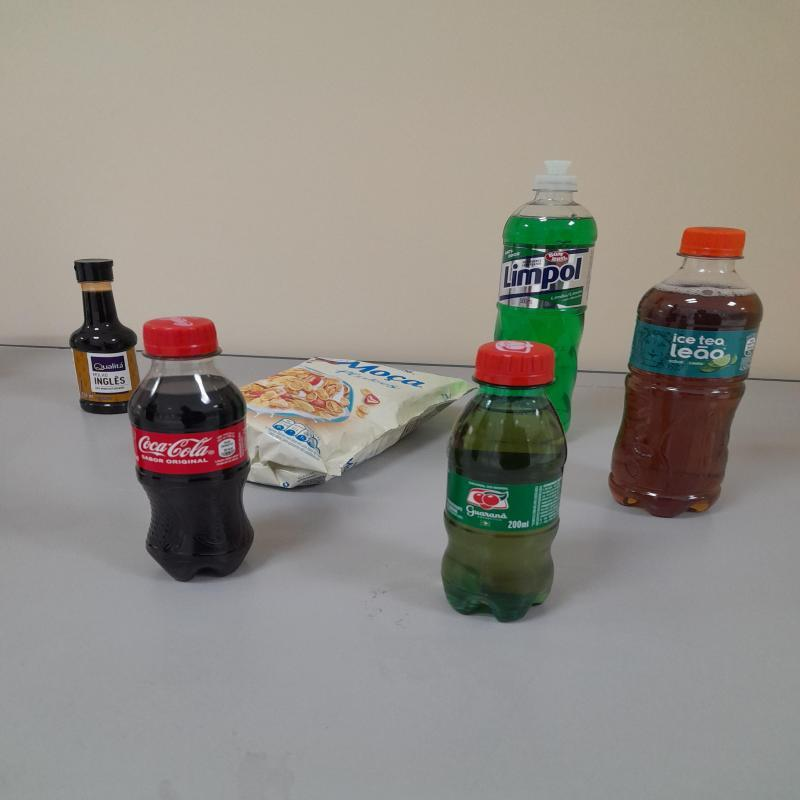Cleaner: (496, 162, 599, 440)
Coke: (125, 317, 256, 583)
CornFlakes: (245, 353, 476, 490)
EnglishSauce: (72, 261, 142, 416)
Guarana: (441, 334, 571, 622)
IceTea: (604, 224, 764, 520)
